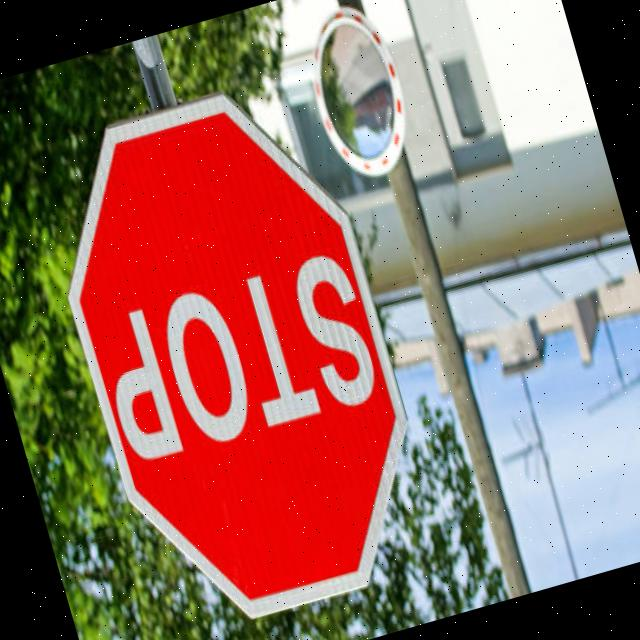stop: (15, 59, 456, 640)
